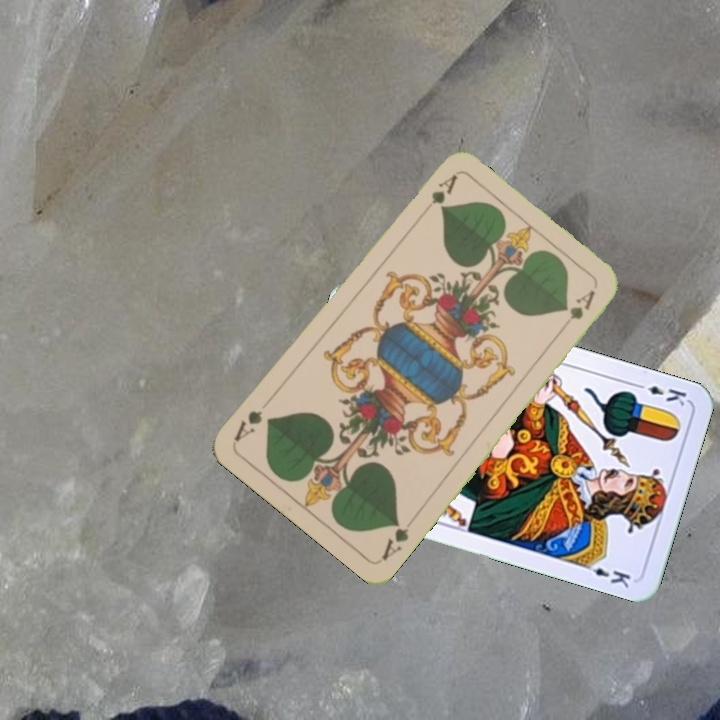EK: (631, 379, 689, 409)
GA: (415, 171, 460, 220), (377, 516, 412, 563)
